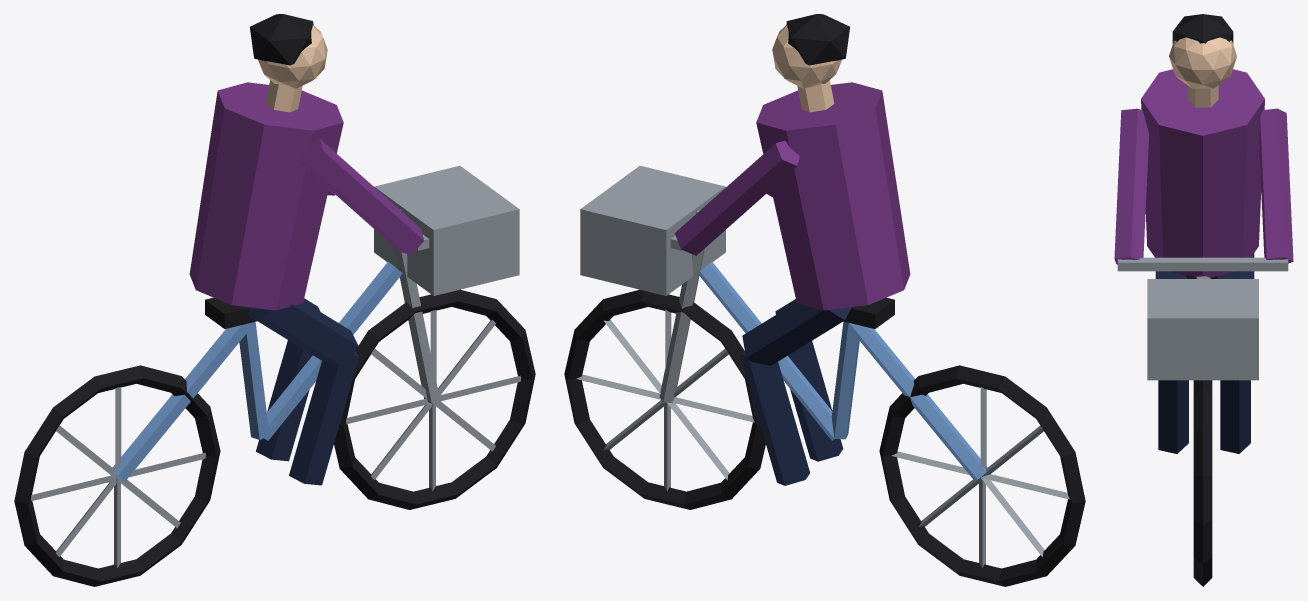
Rendered from mamachari.glb.
The picture shows the model from 3 angles, left to right: view 1: azimuth 30°, elevation 25°; view 2: azimuth 150°, elevation 25°; view 3: azimuth 270°, elevation 25°; orthographic projection. The views are drawn at different scales.
Parts seen in each view (by area): view 1: mamachari; view 2: mamachari; view 3: mamachari.
Part boxes in pixels (bbox=[...]): mamachari: bbox=[14, 14, 535, 586]; mamachari: bbox=[564, 14, 1085, 586]; mamachari: bbox=[1114, 14, 1293, 586].
Size of the model in its own units: 1.82 by 1.76 by 0.5771.
